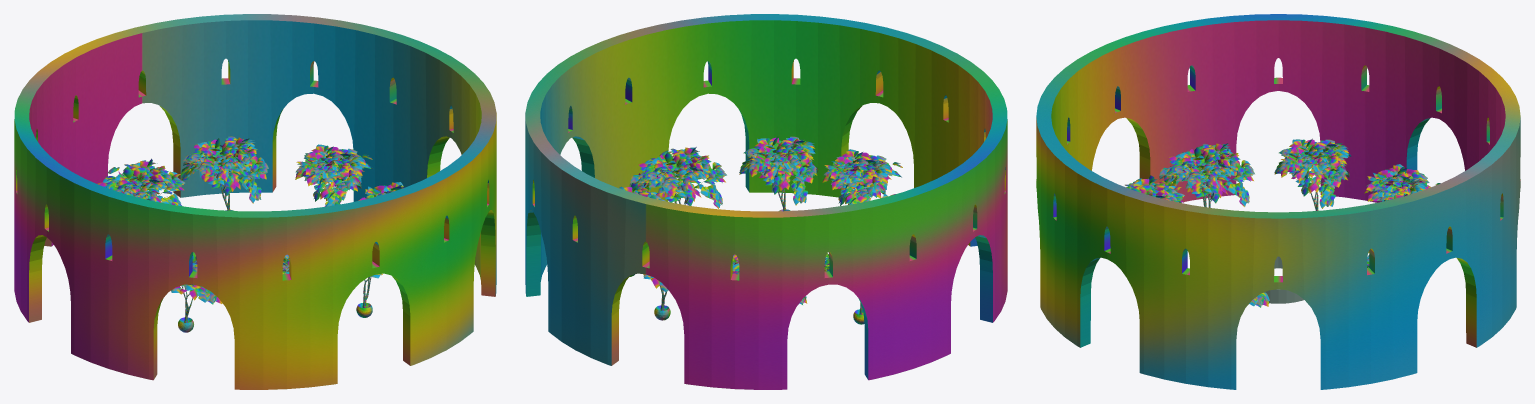
The model's file is CV_Heart_Cupola_2.glb.
3 renders of one model, left to right at view 1: azimuth 30°, elevation 25°; view 2: azimuth 150°, elevation 25°; view 3: azimuth 270°, elevation 25°, orthographic.
Parts seen in each view (by area): view 1: Parete. Con porte, Tree; view 2: Parete. Con porte, Tree; view 3: Parete. Con porte, Tree, Circle.
Boxes of the visible parts, x1,y1,x2,y2 form: Parete. Con porte: (14, 14, 496, 389); Tree: (97, 136, 404, 332); Parete. Con porte: (525, 14, 1007, 389); Tree: (619, 136, 902, 324); Parete. Con porte: (1036, 14, 1520, 389); Tree: (1125, 138, 1440, 307); Circle: (1264, 256, 1303, 303).
Size of what is drawn, in the model's own units: 10.11 by 3.99 by 10.11.
Materials: 1 (1 with a texture image).
